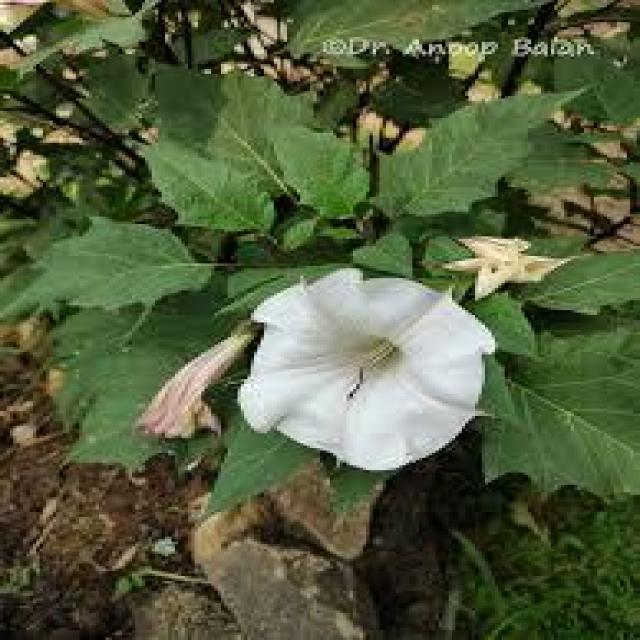organic waste: (226, 262, 493, 462)
